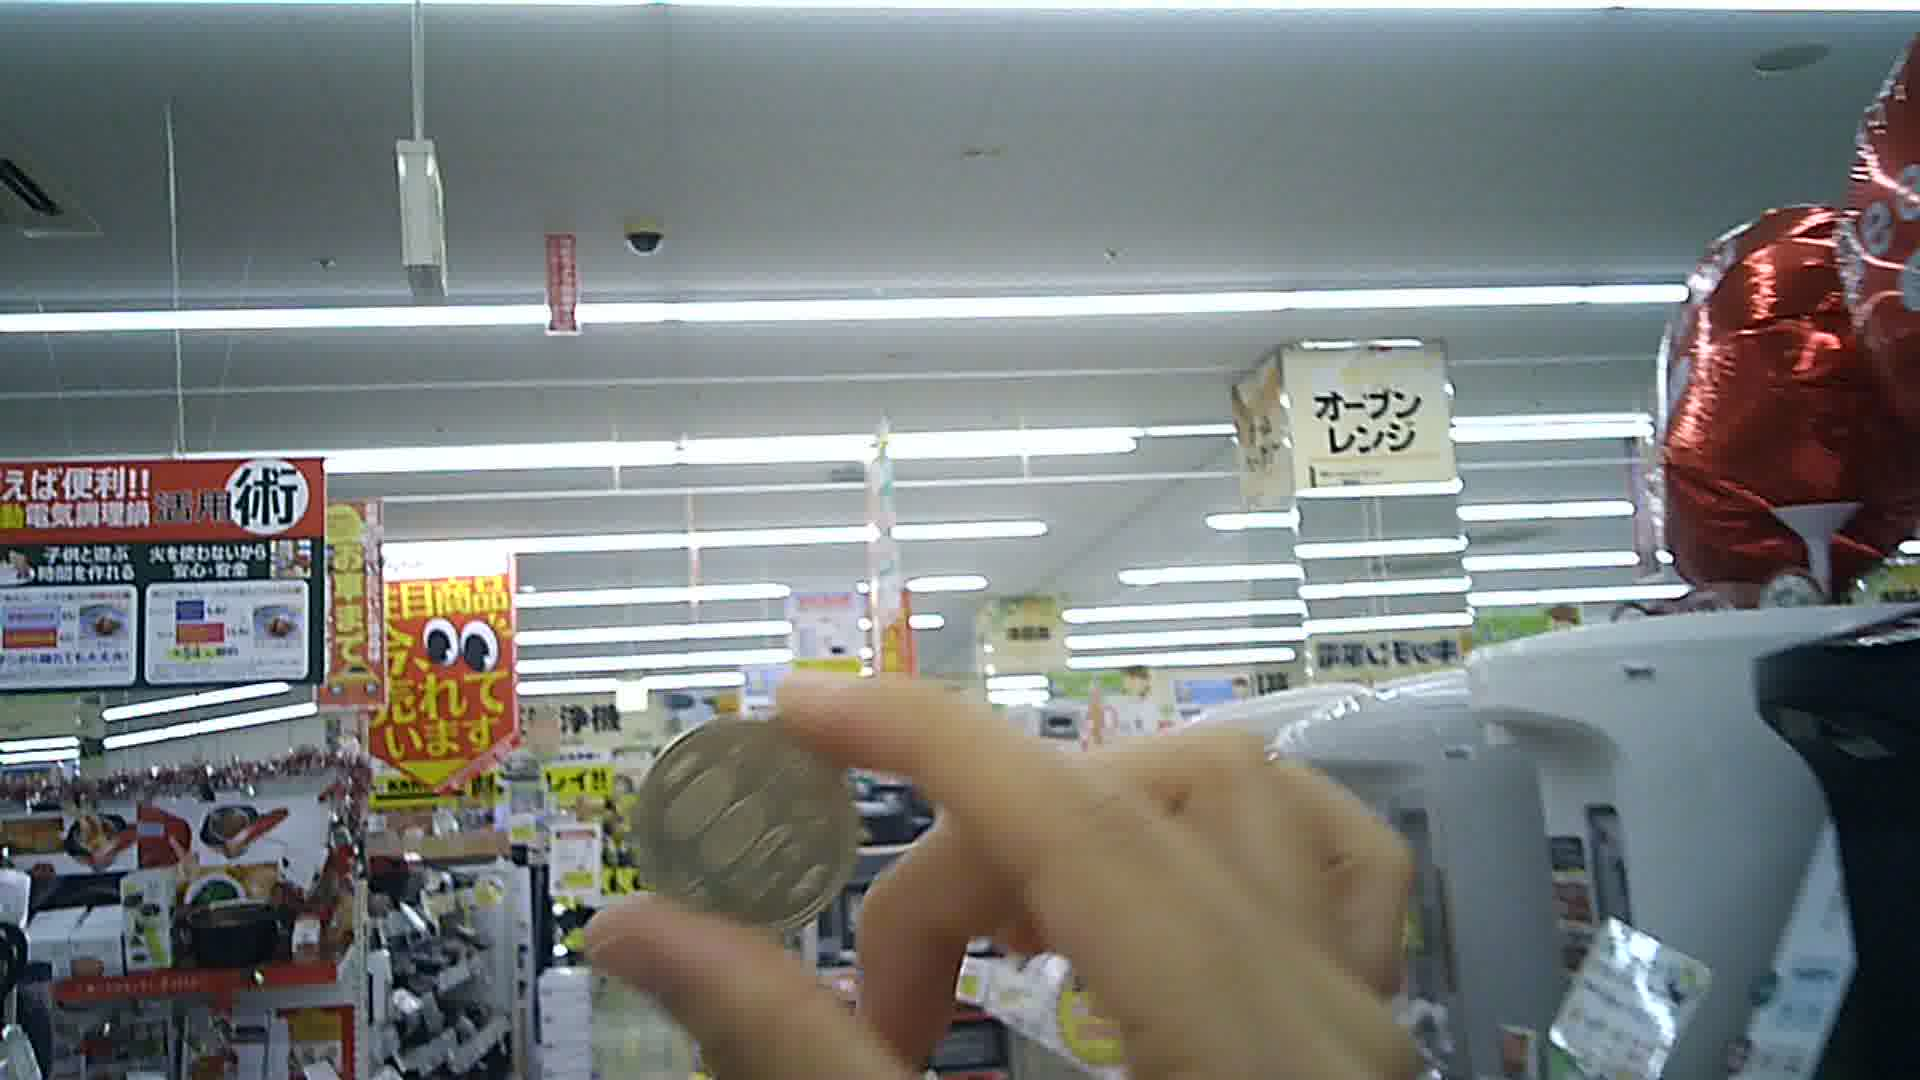500 Yen: (633, 711, 864, 942)
